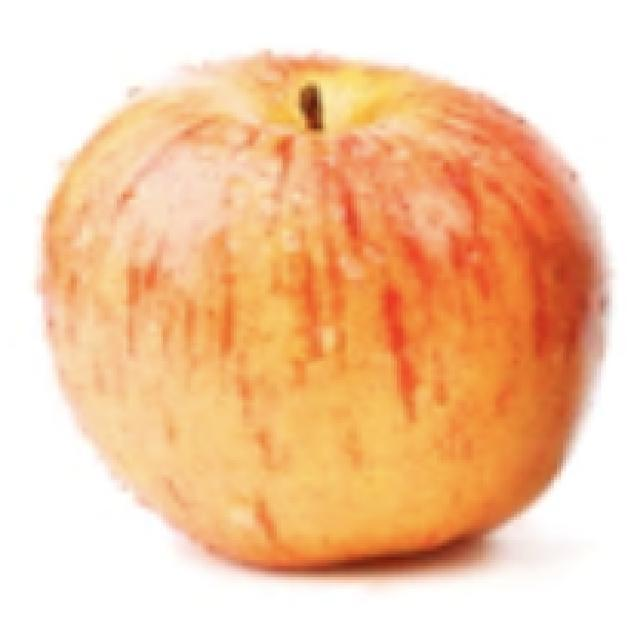Apple: (39, 48, 608, 571)
